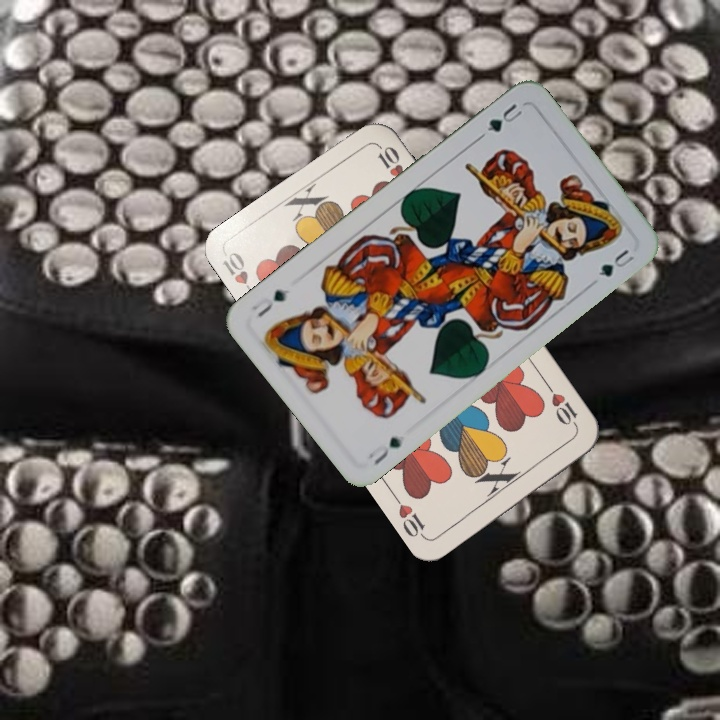GU: (482, 99, 527, 135), (364, 432, 404, 468)
H10: (218, 247, 260, 302), (542, 380, 581, 432)
